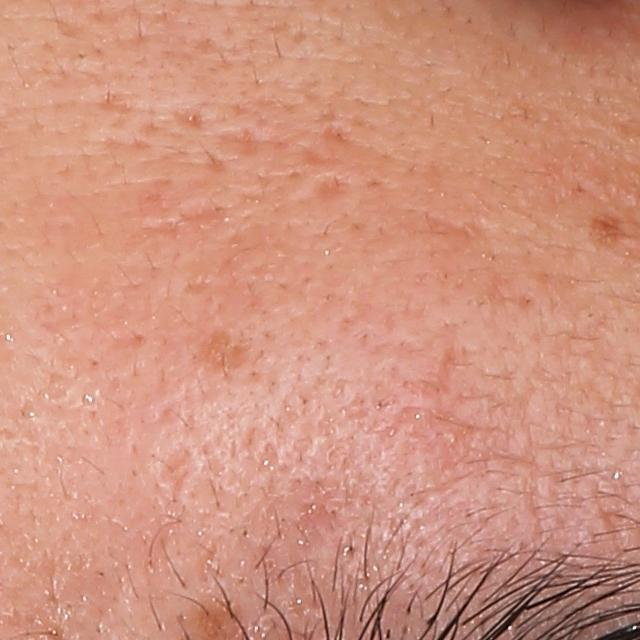atrophic_scar: (403, 346, 462, 405), (439, 412, 499, 468), (426, 212, 499, 256), (156, 445, 201, 512), (197, 325, 255, 375), (301, 477, 349, 532), (334, 290, 379, 340), (170, 198, 238, 230), (306, 169, 365, 205), (217, 121, 264, 157), (174, 97, 208, 136)
nevus: (588, 212, 627, 251)
